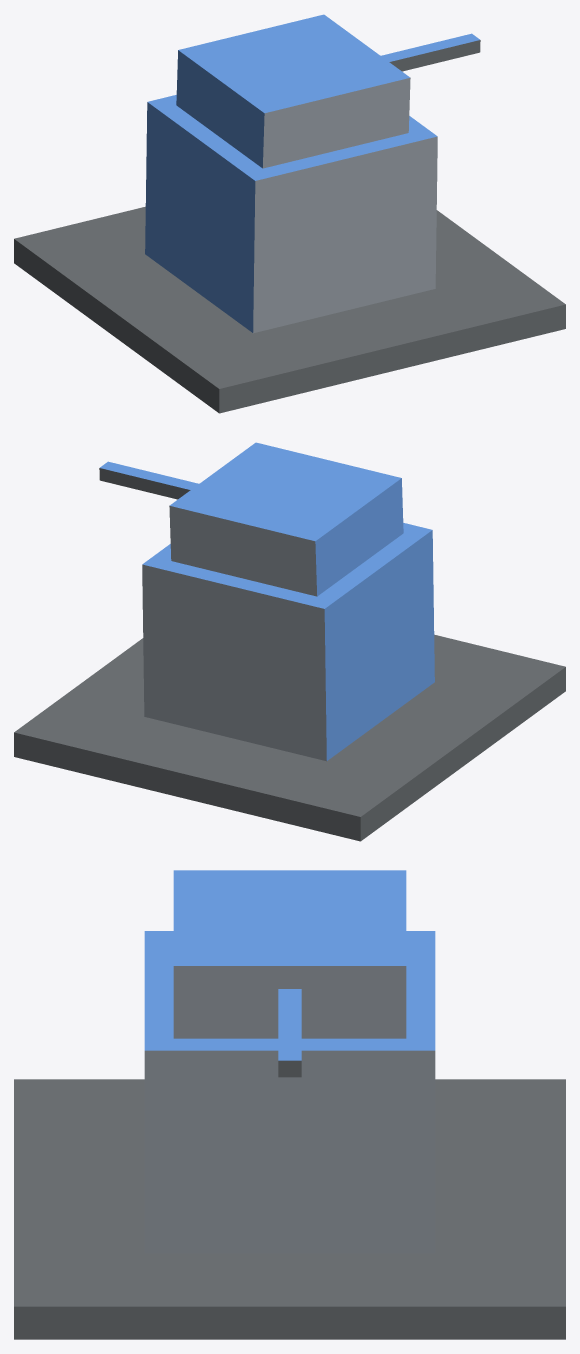
Rendered from veyran_defence_tower_damaged.glb.
The picture shows the model from 3 angles, top to bottom: view 1: azimuth 30°, elevation 25°; view 2: azimuth 150°, elevation 25°; view 3: azimuth 270°, elevation 25°; orthographic projection. The views are drawn at different scales.
Visible parts, largest first — view 1: hull, turret, barrel; view 2: hull, turret, barrel; view 3: hull, turret, barrel.
Boxes of the visible parts, x1,y1,x2,y2 form: hull: (14,95,565,413); turret: (176,14,410,168); barrel: (381,33,480,71); hull: (14,523,565,841); turret: (169,442,403,596); barrel: (99,461,198,499); hull: (14,931,565,1339); turret: (173,870,406,1038); barrel: (278,989,301,1077).
Bounding box in the file's own units: 3.84 × 2.36 × 3.8.
